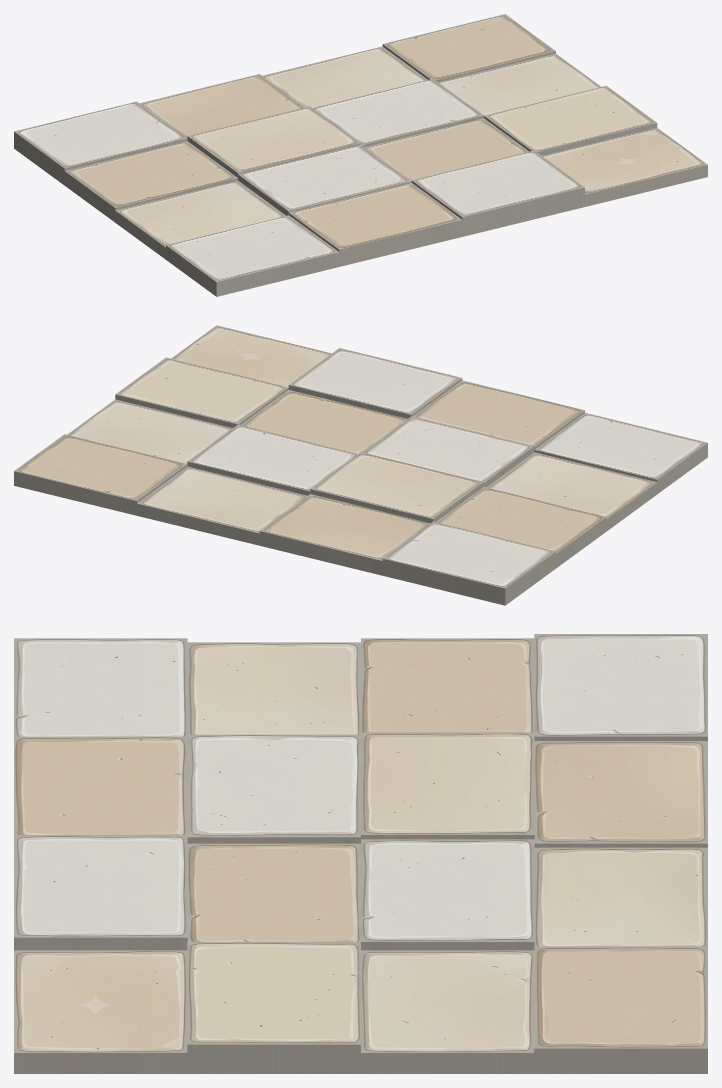
Rendered from HH_FloorTile.fbx.
3 views of the same model, one above another, from view 1: azimuth 30°, elevation 25°; view 2: azimuth 150°, elevation 25°; view 3: azimuth 270°, elevation 25° (orthographic). The views are drawn at different scales.
Visible parts, largest first — view 1: FloorTile; view 2: FloorTile; view 3: FloorTile.
Boxes of the visible parts, box(x1,y1,x2,y2) form: FloorTile: box(14, 14, 707, 296); FloorTile: box(14, 325, 707, 605); FloorTile: box(14, 634, 707, 1073).
Bounding box in the file's own units: 420 × 16 × 300.
Materials: 1 (1 with a texture image).
